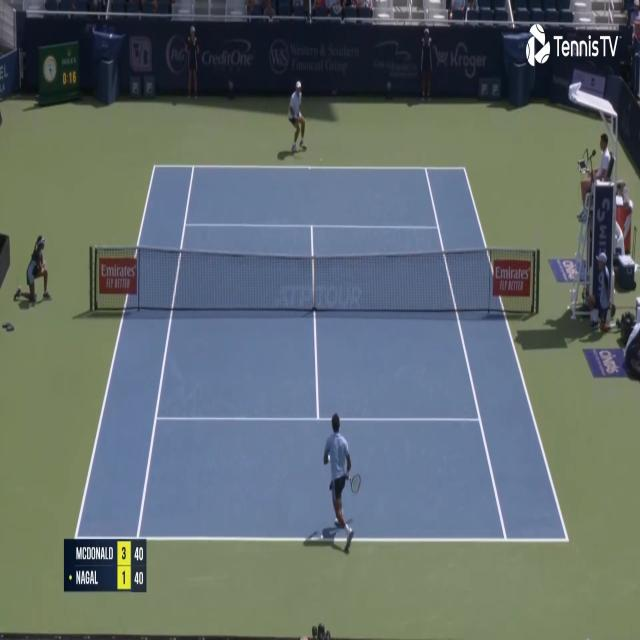tennis-player: (314, 408, 361, 557), (285, 78, 308, 156)
